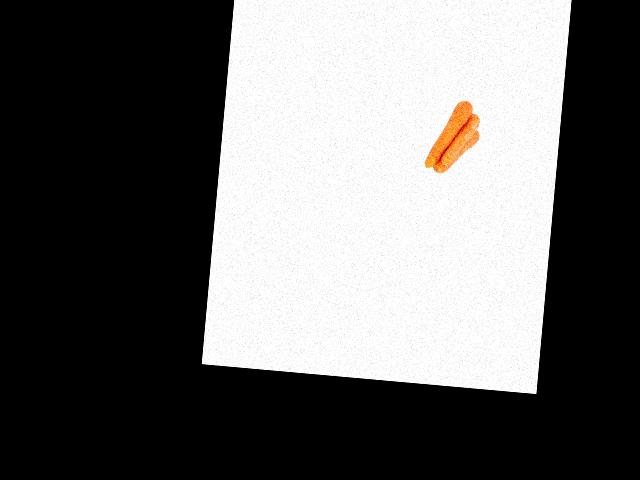carrot: (425, 97, 473, 169)
